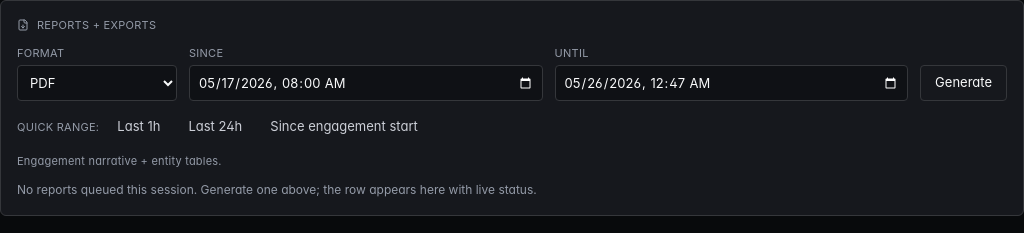
it: ReportsPanel › quick-range button sets since/until to the requested window
Click the button "Last 1h" at (139, 127), box top-left (107, 113), bottom-right (170, 141)
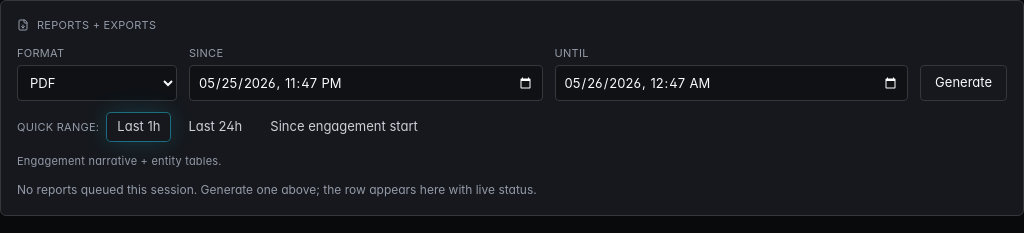
Expected: the field named "report end" is not empty, top-left (554, 65), bottom-right (908, 101)
Now the field named "report start" does not hold "2026-05-17T08:00", box top-left (189, 65), bottom-right (542, 101)
